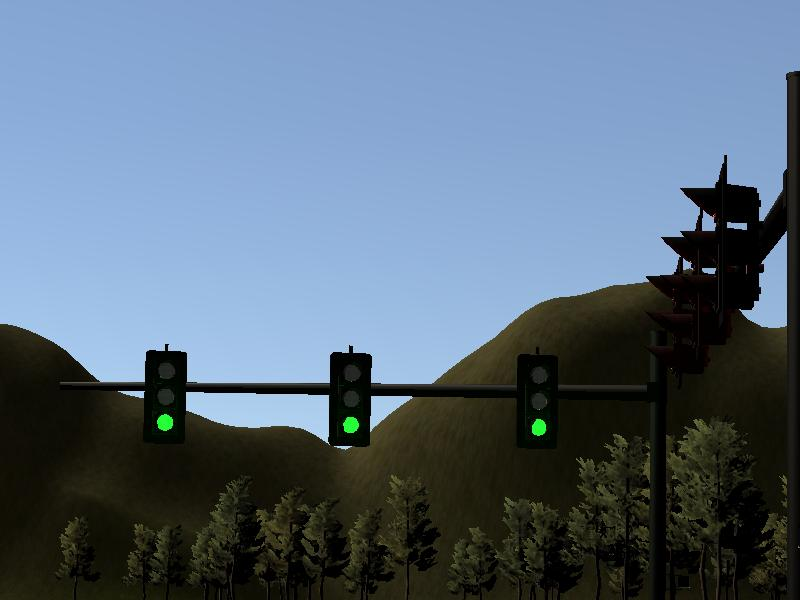not_red: (329, 351, 370, 443), (517, 356, 557, 447), (146, 348, 185, 437)
